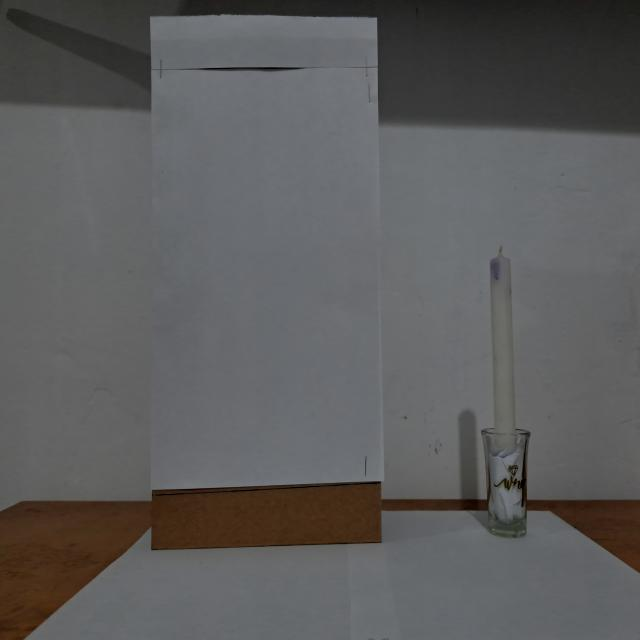candle: (478, 234, 536, 546)
wall: (142, 0, 392, 555)
